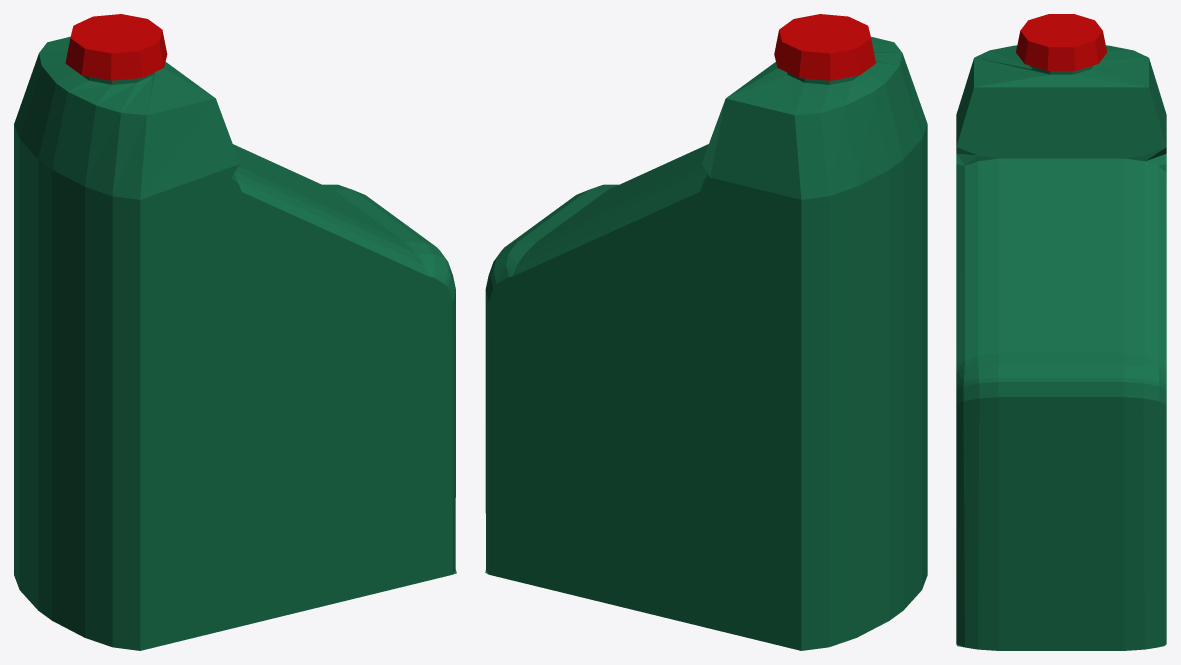
Rendered from SM_container_fluid_01.fbx.
The picture shows the model from 3 angles, left to right: view 1: azimuth 30°, elevation 25°; view 2: azimuth 150°, elevation 25°; view 3: azimuth 270°, elevation 25°; orthographic projection. The views are drawn at different scales.
Parts seen in each view (by area): view 1: container_fluid_01; view 2: container_fluid_01; view 3: container_fluid_01.
Part boxes in pixels (left/top/right/bottom): container_fluid_01: left=14, top=14, right=456, bottom=650; container_fluid_01: left=485, top=14, right=927, bottom=650; container_fluid_01: left=956, top=14, right=1166, bottom=650.
Bounding box in the file's own units: 54.84 × 81.34 × 31.29.
